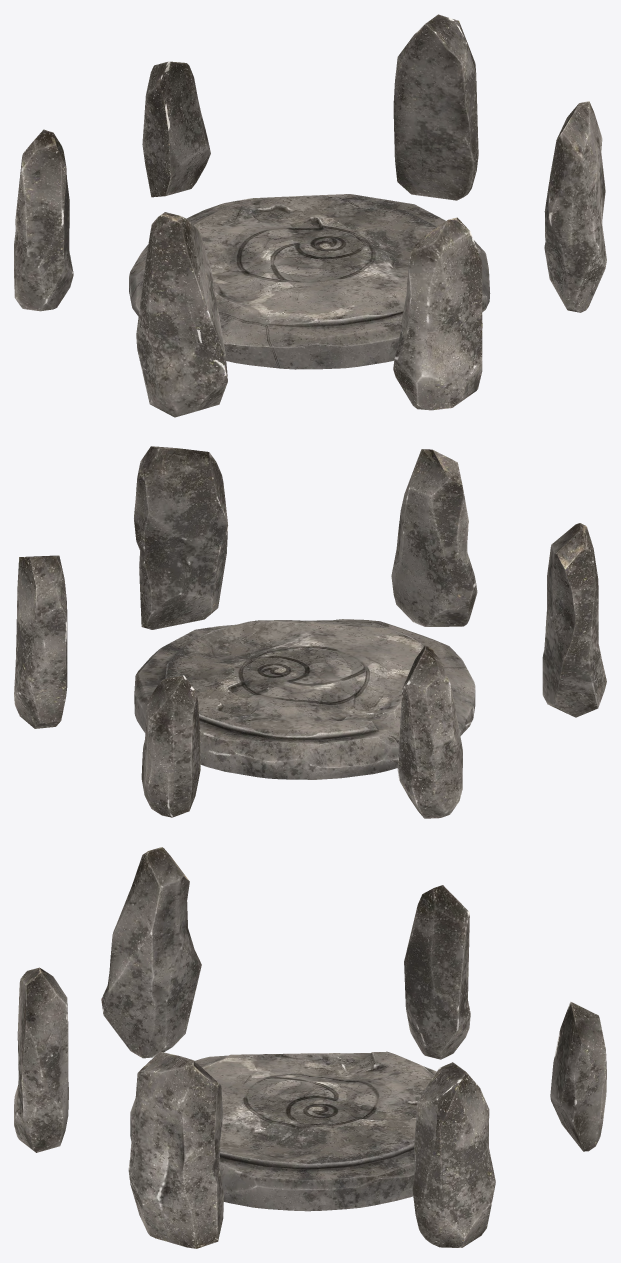
Rendered from portal.glb.
The picture shows the model from 3 angles, top to bottom: view 1: azimuth 30°, elevation 25°; view 2: azimuth 150°, elevation 25°; view 3: azimuth 270°, elevation 25°; orthographic projection. The views are drawn at different scales.
Parts seen in each view (by area): view 1: portalbase_portal_0; view 2: portalbase_portal_0; view 3: portalbase_portal_0.
Boxes of the visible parts, x1,y1,x2,y2 form: portalbase_portal_0: (14, 14, 606, 417); portalbase_portal_0: (14, 446, 606, 818); portalbase_portal_0: (14, 847, 606, 1248).
Bounding box in the file's own units: 2280 × 935 × 2534.
1 material, 1 textured.
